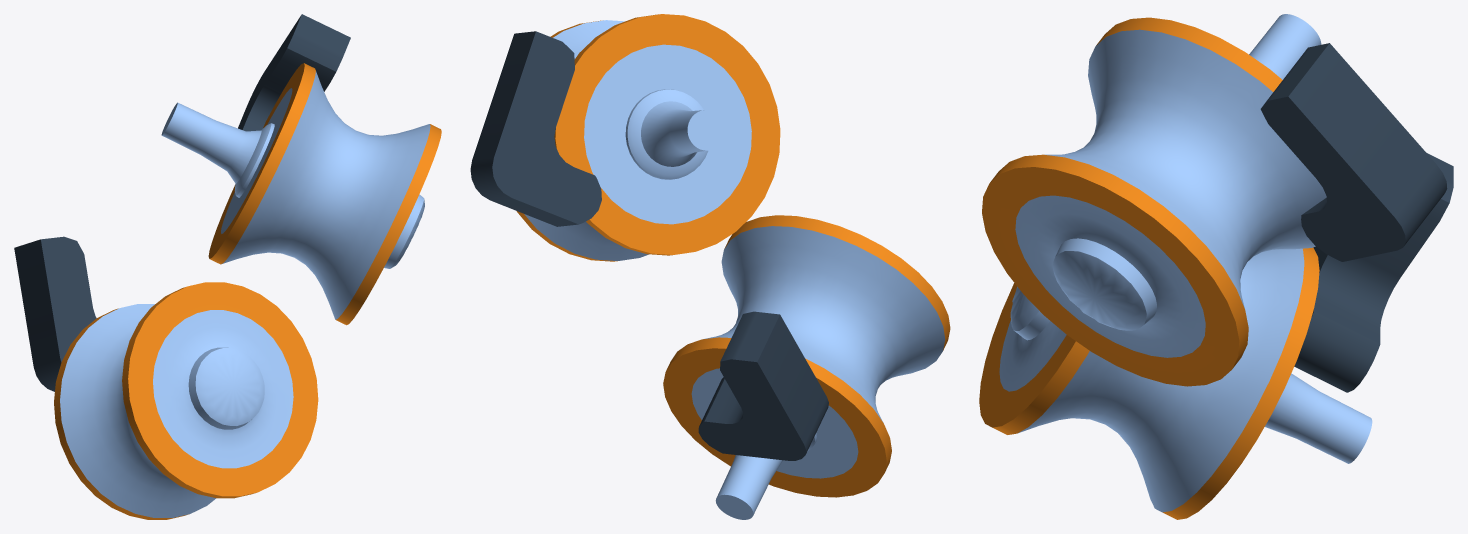
File: WheelsUpgrade_01_mesh.fbx
3 renders of one model, left to right at view 1: azimuth 30°, elevation 25°; view 2: azimuth 150°, elevation 25°; view 3: azimuth 270°, elevation 25°, orthographic. The views are drawn at different scales.
Parts seen in each view (by area): view 1: Wheels.001; view 2: Wheels.001; view 3: Wheels.001.
Boxes of the visible parts, box(x1,y1,x2,y2) form: Wheels.001: box(14, 14, 441, 519); Wheels.001: box(470, 14, 950, 519); Wheels.001: box(979, 14, 1453, 519).
Bounding box in the file's own units: 22.82 × 25.44 × 18.71.
